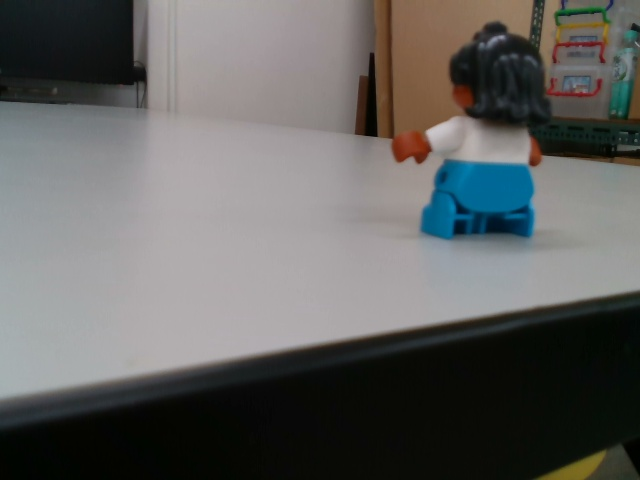people: (390, 20, 554, 243)
